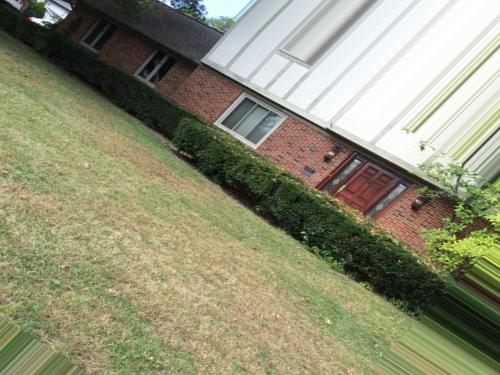patch: (21, 191, 200, 232), (155, 302, 300, 350), (110, 236, 229, 291), (104, 140, 172, 181), (240, 250, 277, 296), (315, 283, 359, 307), (304, 327, 337, 358), (81, 109, 116, 138), (57, 237, 84, 261)
